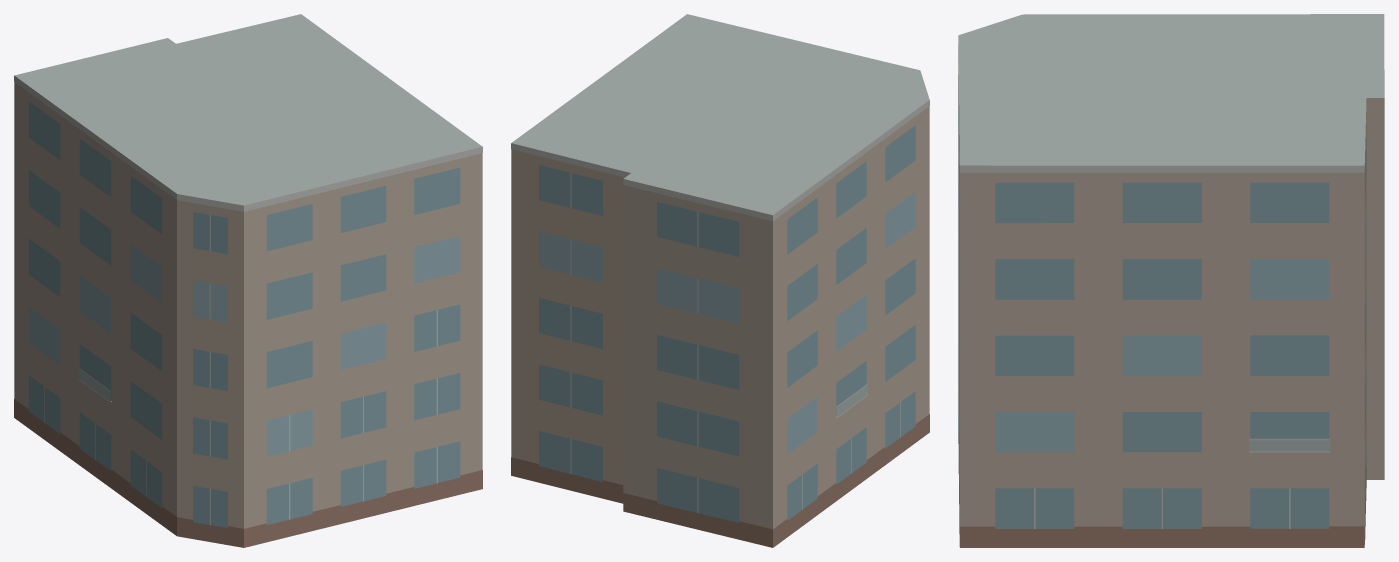
File: survey-upis-32772882.glb
3 renders of one model, left to right at view 1: azimuth 30°, elevation 25°; view 2: azimuth 150°, elevation 25°; view 3: azimuth 270°, elevation 25°, orthographic. The views are drawn at different scales.
Visible parts, largest first — view 1: survey-upis-32772882.tmp; view 2: survey-upis-32772882.tmp; view 3: survey-upis-32772882.tmp.
Boxes of the visible parts, <box> form: survey-upis-32772882.tmp: <box>14,14,482,547</box>; survey-upis-32772882.tmp: <box>511,14,929,547</box>; survey-upis-32772882.tmp: <box>958,14,1384,547</box>.
Bounding box in the file's own units: 11.38 × 13.3 × 13.46.
